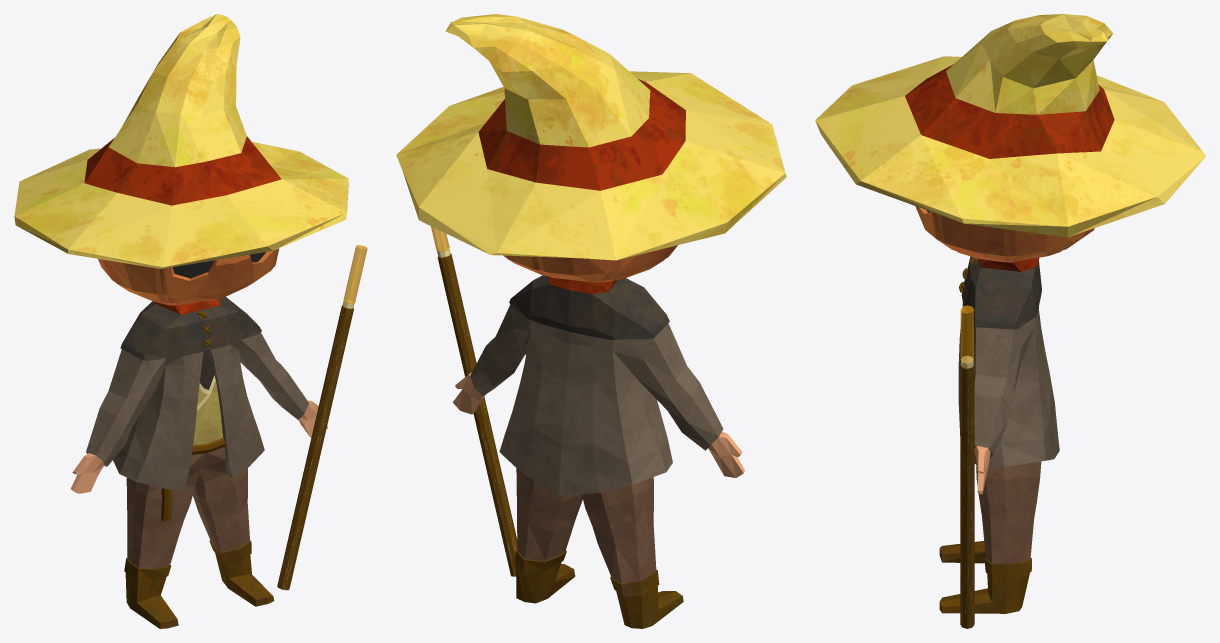
Rendered from Nomada.obj.
The picture shows the model from 3 angles, left to right: view 1: azimuth 30°, elevation 25°; view 2: azimuth 150°, elevation 25°; view 3: azimuth 270°, elevation 25°; orthographic projection. The views are drawn at different scales.
Visible parts, largest first — view 1: body.002, sombrero.002, palo.003; view 2: sombrero.002, body.002, palo.003; view 3: sombrero.002, body.002, palo.003.
Boxes of the visible parts, left/top/right/bottom form: body.002: left=71, top=248, right=328, bottom=628; sombrero.002: left=14, top=14, right=348, bottom=268; palo.003: left=277, top=245, right=367, bottom=590; sombrero.002: left=396, top=14, right=786, bottom=260; body.002: left=453, top=245, right=744, bottom=628; palo.003: left=431, top=226, right=517, bottom=576; sombrero.002: left=815, top=14, right=1205, bottom=237; body.002: left=915, top=206, right=1094, bottom=613; palo.003: left=960, top=305, right=974, bottom=628.
Size of the model in its own units: 5.01 by 8.21 by 4.92.
2 materials, 2 textured.
